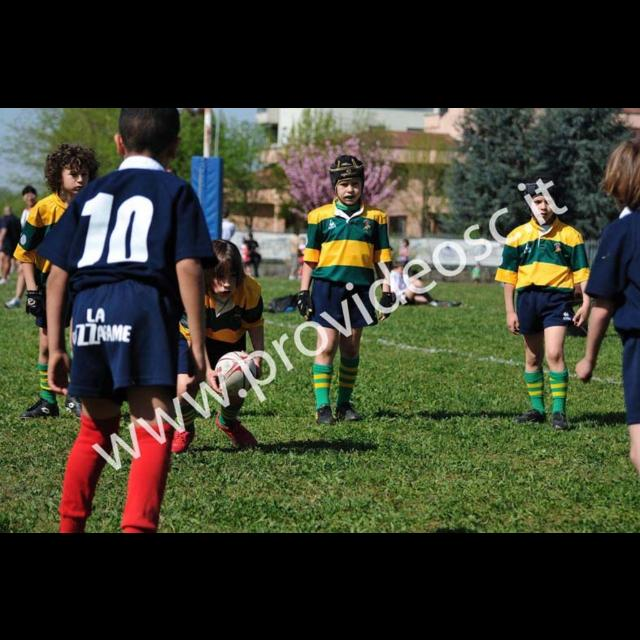Football: (212, 352, 254, 396)
